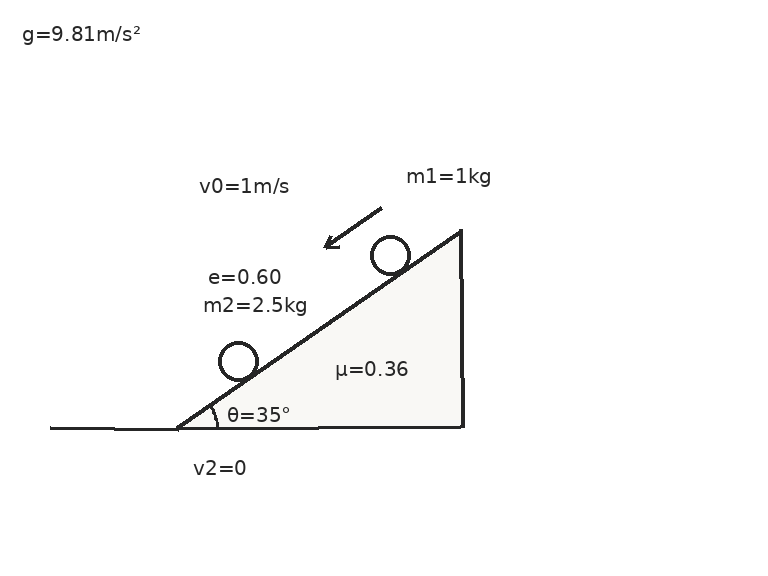ball: (368, 233, 412, 277), (216, 339, 260, 383)
ramp: (175, 228, 462, 430)
